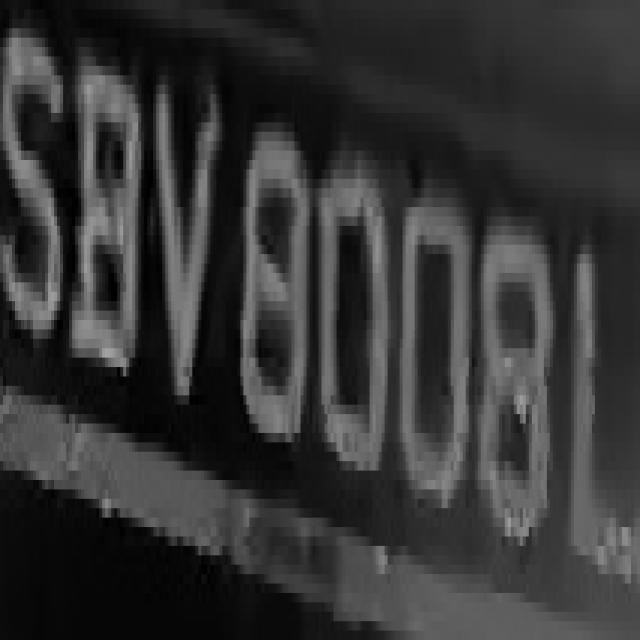0: (312, 122, 390, 518), (394, 141, 468, 537)
8: (484, 151, 553, 574), (234, 113, 306, 480)
B: (63, 19, 150, 405)
L: (562, 179, 640, 612)
S: (6, 10, 63, 358)
V: (148, 47, 222, 433)
